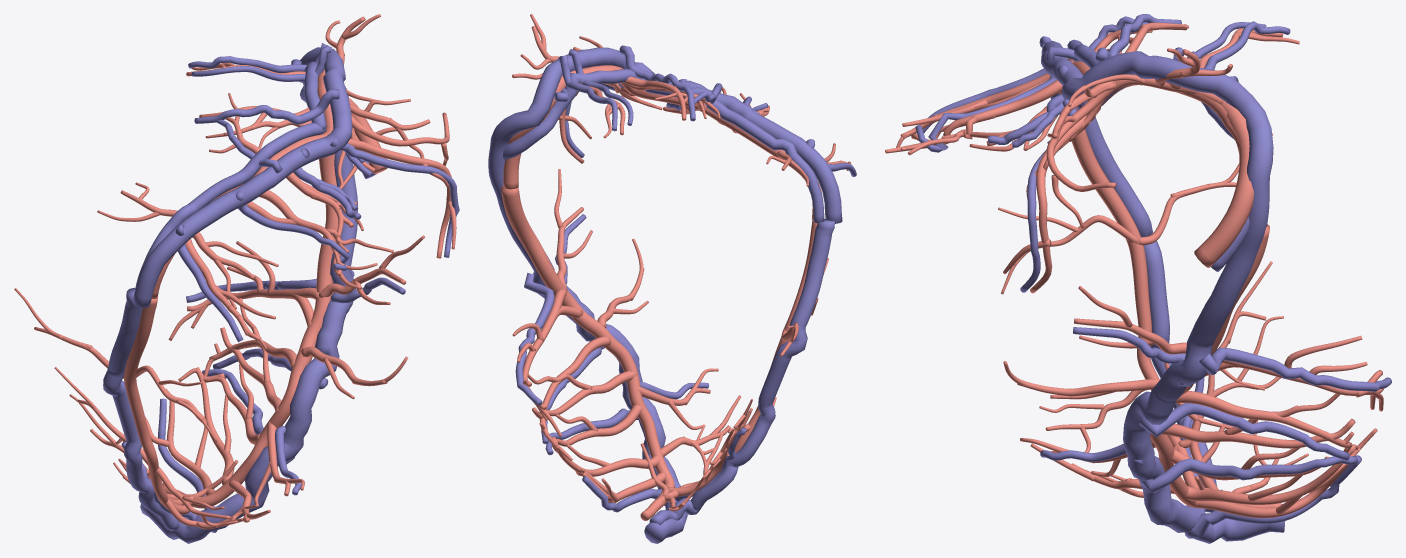
Rendered from vessels_17.glb.
3 views of the same model, side by side, from view 1: azimuth 30°, elevation 25°; view 2: azimuth 150°, elevation 25°; view 3: azimuth 270°, elevation 25° (orthographic). The views are drawn at different scales.
Parts seen in each view (by area): view 1: Renderer Node; view 2: Renderer Node; view 3: Renderer Node.
Boxes of the visible parts, left/top/right/bottom form: Renderer Node: left=14, top=14, right=459, bottom=543; Renderer Node: left=488, top=14, right=856, bottom=543; Renderer Node: left=885, top=14, right=1391, bottom=543.
Bounding box in the file's own units: 87.04 × 113 × 87.49.
